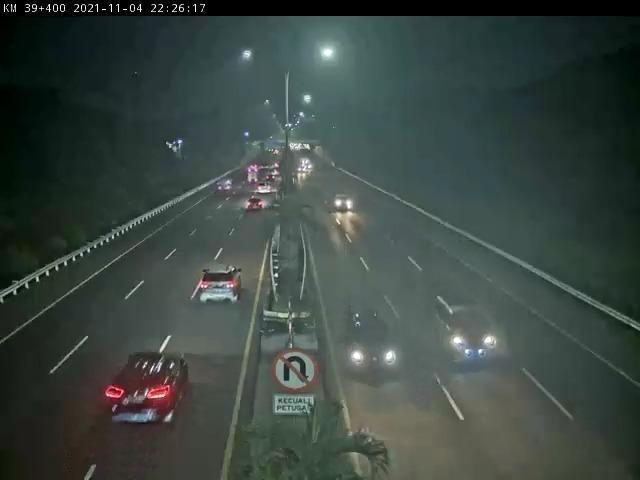car: (446, 302, 518, 382), (112, 348, 182, 426), (346, 312, 402, 386), (206, 258, 242, 316), (333, 188, 359, 218)
